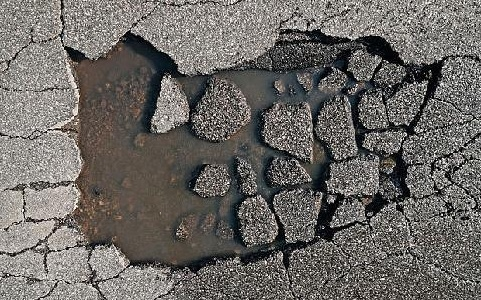pothole: (59, 23, 453, 276)
